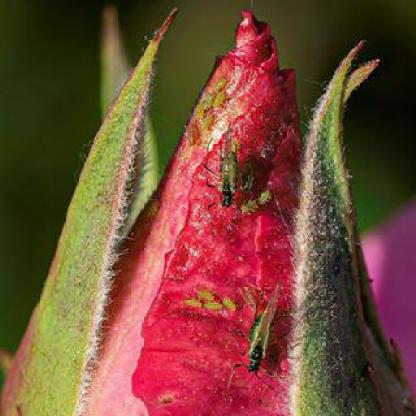aphid: (231, 273, 280, 379), (212, 131, 245, 212), (238, 152, 258, 198), (240, 194, 260, 219), (144, 196, 162, 221), (183, 122, 201, 146), (181, 293, 202, 312), (198, 284, 217, 304), (257, 187, 274, 209), (204, 297, 223, 315), (213, 89, 228, 111), (222, 294, 237, 315), (191, 101, 206, 121), (203, 88, 217, 109), (214, 73, 227, 93), (204, 109, 214, 131)
